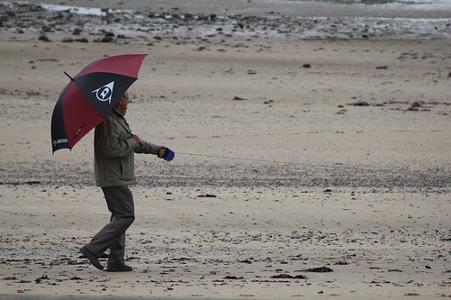person: (78, 90, 167, 273)
